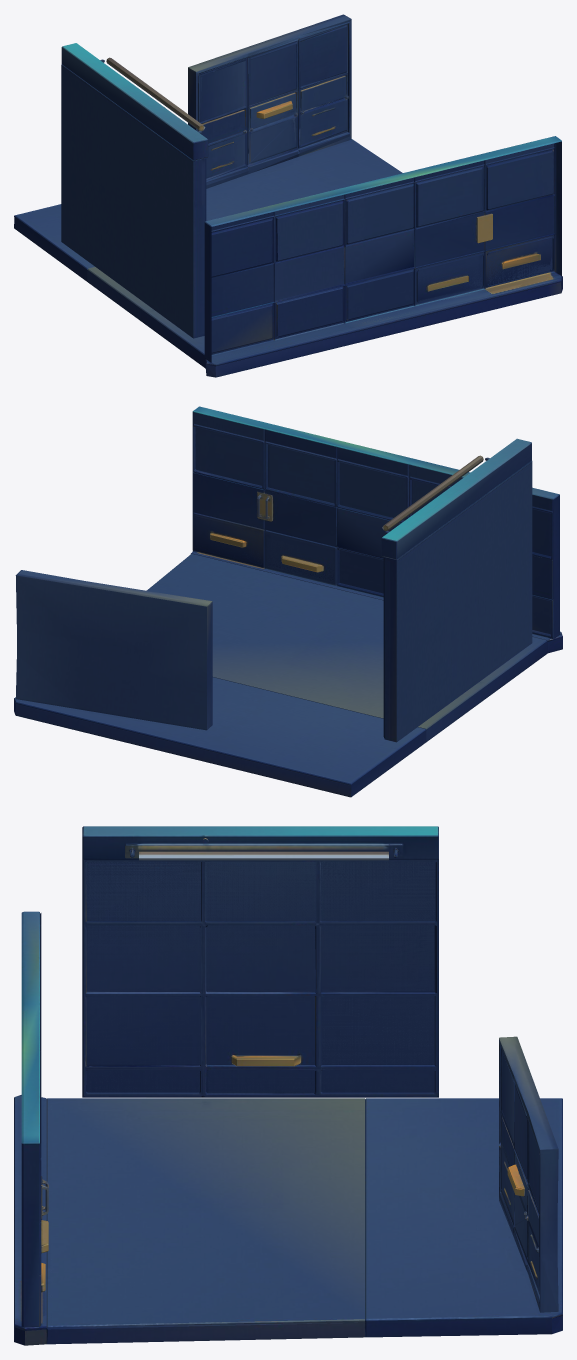
File: warehouse-bay-shell-kit.glb
The picture shows the model from 3 angles, top to bottom: view 1: azimuth 30°, elevation 25°; view 2: azimuth 150°, elevation 25°; view 3: azimuth 270°, elevation 25°; orthographic projection. The views are drawn at different scales.
Visible parts, largest first — view 1: tripo_node_ed3cc8b3-95bc-4a65-a902-8f7c94f09bfe; view 2: tripo_node_ed3cc8b3-95bc-4a65-a902-8f7c94f09bfe; view 3: tripo_node_ed3cc8b3-95bc-4a65-a902-8f7c94f09bfe.
Part boxes in pixels (<box>): tripo_node_ed3cc8b3-95bc-4a65-a902-8f7c94f09bfe: <box>14,14,562,377</box>; tripo_node_ed3cc8b3-95bc-4a65-a902-8f7c94f09bfe: <box>14,406,562,797</box>; tripo_node_ed3cc8b3-95bc-4a65-a902-8f7c94f09bfe: <box>14,826,562,1345</box>.
Bounding box in the file's own units: 0.998 × 0.5762 × 0.9863.
1 material, 1 textured.
